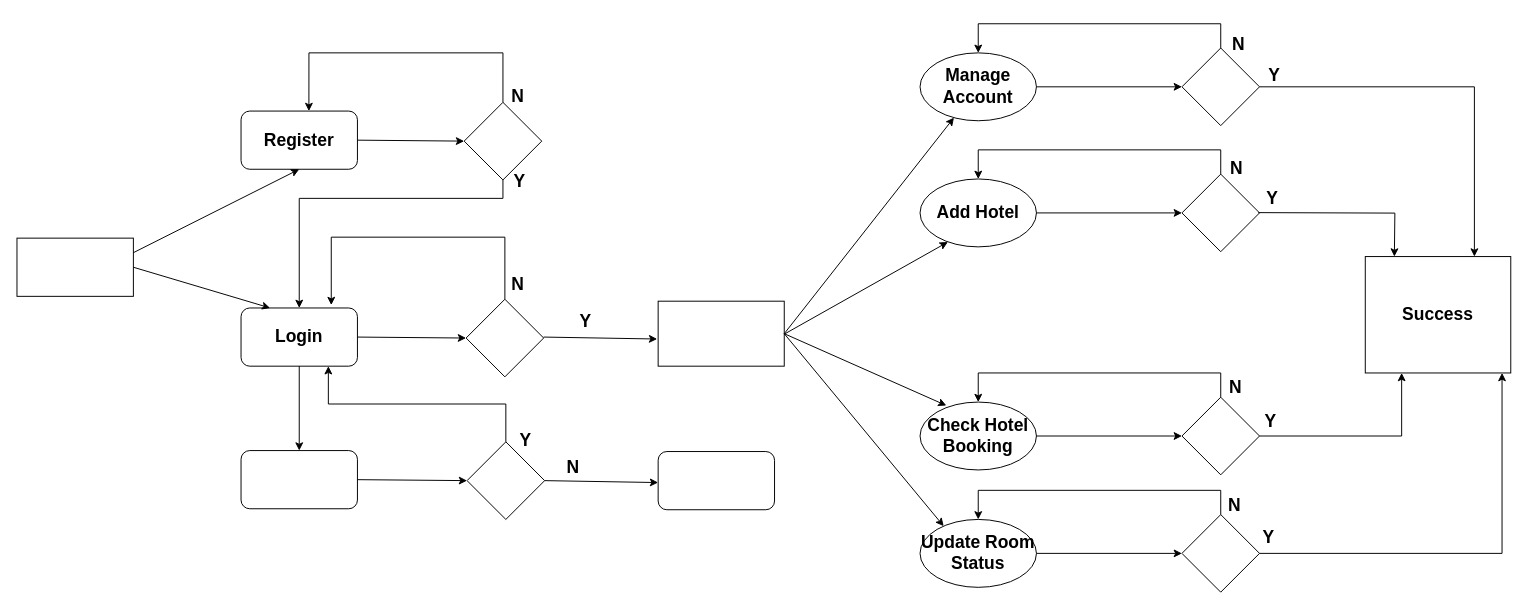
Some shapes in this 1528 by 609 pixel diagram are drawn without their labels. Each missing label, with the box of its shape:
Error Page: (657, 451, 775, 510)
Forgot Password: (240, 450, 357, 509)
Service Provider: (16, 237, 133, 296)
Service Provider Home Page: (657, 300, 784, 366)
